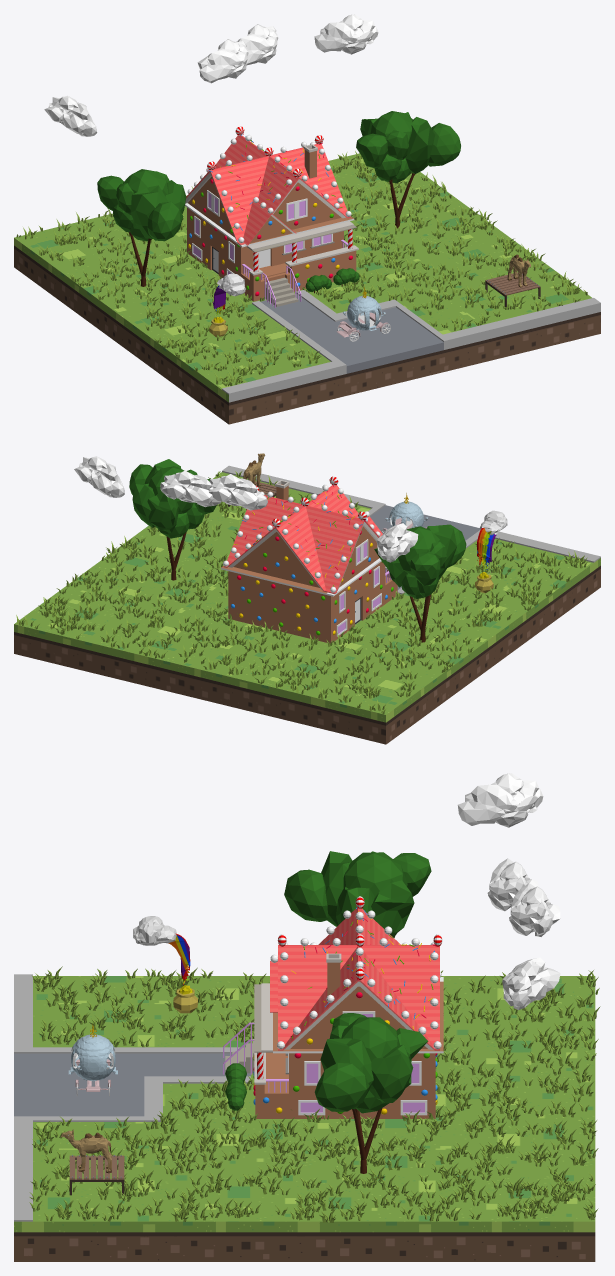
3 views of the same model, one above another, from view 1: azimuth 30°, elevation 25°; view 2: azimuth 150°, elevation 25°; view 3: azimuth 270°, elevation 25° (orthographic). The views are drawn at different scales.
Visible parts, largest first — view 1: Cube.006, Cube.1203, Circle.012_Grass_0.192, Cube.007, tree, tree.001, VEHICLES_FANTASY_CARRIAGE, OBJRANDOM_RAINBOW, Cube.009; view 2: Cube.006, Cube.1203, Circle.012_Grass_0.192, Cube.007, tree.001, tree, OBJRANDOM_RAINBOW, VEHICLES_FANTASY_CARRIAGE, ANIMAL_CAMELLO; view 3: Cube.006, Circle.012_Grass_0.192, Cube.1203, tree, Cube.007, tree.001, VEHICLES_FANTASY_CARRIAGE, OBJRANDOM_RAINBOW, Cube.009, ANIMAL_CAMELLO.
Part boxes in pixels (bbox=[...]): Cube.006: bbox=[14, 153, 600, 424]; Cube.1203: bbox=[185, 126, 358, 307]; Circle.012_Grass_0.192: bbox=[16, 151, 587, 386]; Cube.007: bbox=[44, 14, 378, 136]; tree: bbox=[356, 111, 460, 228]; tree.001: bbox=[97, 169, 186, 286]; VEHICLES_FANTASY_CARRIAGE: bbox=[336, 287, 390, 341]; OBJRANDOM_RAINBOW: bbox=[209, 273, 245, 337]; Cube.009: bbox=[485, 272, 540, 306]; Cube.006: bbox=[14, 465, 600, 744]; Cube.1203: bbox=[221, 476, 397, 643]; Circle.012_Grass_0.192: bbox=[16, 471, 587, 713]; Cube.007: bbox=[74, 456, 418, 562]; tree.001: bbox=[374, 524, 466, 642]; tree: bbox=[129, 459, 216, 580]; OBJRANDOM_RAINBOW: bbox=[475, 510, 507, 593]; VEHICLES_FANTASY_CARRIAGE: bbox=[381, 493, 428, 533]; ANIMAL_CAMELLO: bbox=[243, 453, 265, 486]; Cube.006: bbox=[14, 974, 595, 1261]; Circle.012_Grass_0.192: bbox=[29, 966, 600, 1222]; Cube.1203: bbox=[223, 896, 443, 1118]; tree: bbox=[314, 1013, 428, 1173]; Cube.007: bbox=[457, 773, 560, 1010]; tree.001: bbox=[284, 851, 431, 937]; VEHICLES_FANTASY_CARRIAGE: bbox=[68, 1024, 117, 1096]; OBJRANDOM_RAINBOW: bbox=[133, 916, 197, 1013]; Cube.009: bbox=[69, 1155, 124, 1195]; ANIMAL_CAMELLO: bbox=[61, 1129, 111, 1173].
Size of the model in its own units: 4071 by 2328 by 4040.
Materials: 44 (4 with a texture image).
